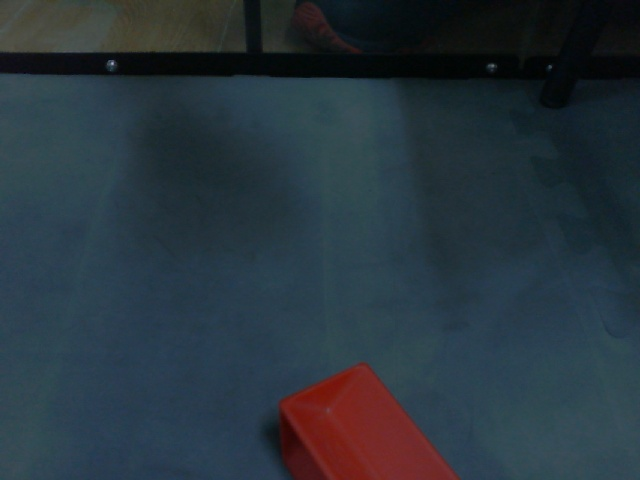RedSample: (274, 360, 463, 480)
